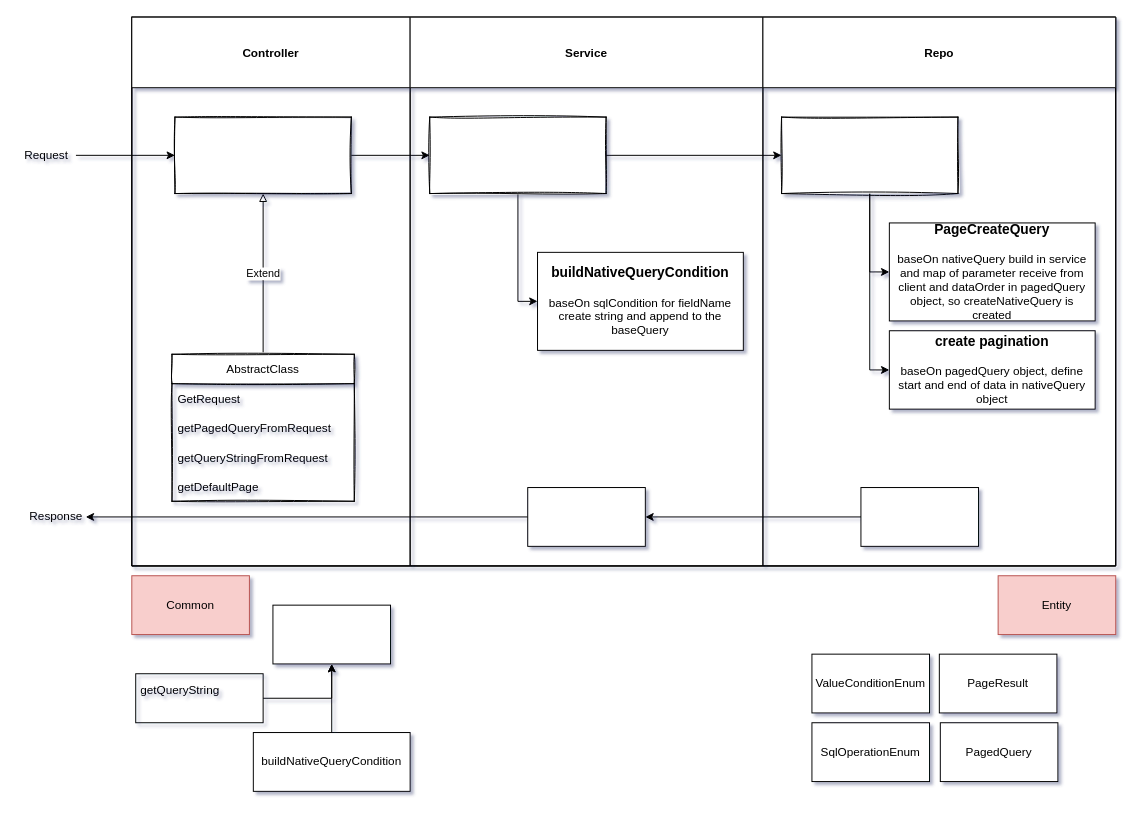
The diagram is 1139 pixels wide and 814 high, and some of its shapes have lost their labels. Here are the shapes that lost their labels. From the top down, the centre of each, then its label:
pixel 262 155: SimpleController
pixel 517 155: SimpleService (queryString, pagedQuery)
pixel 869 155: DaoRepositoryImpl (nativeQuery, pagedQuery, parameterMap, totalCount boolean)
pixel 586 516: PageResult<View>
pixel 919 516: PageResult <T>
pixel 331 634: utils
